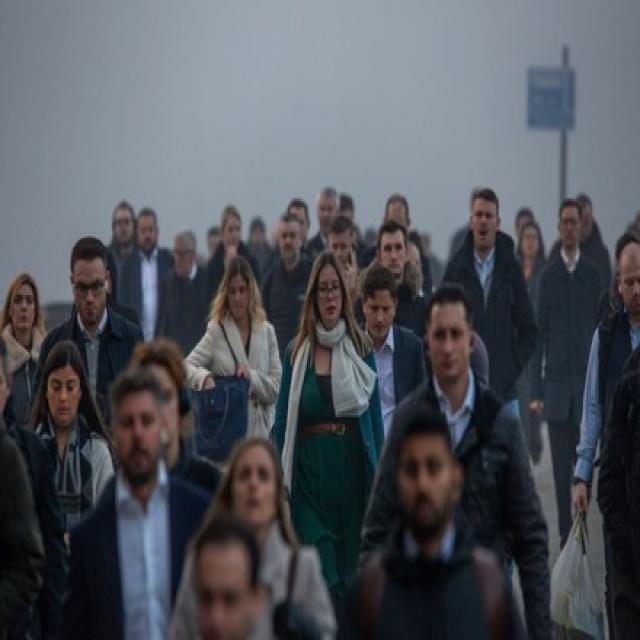Walking: (6, 174, 634, 638), (359, 288, 550, 636), (64, 364, 216, 637), (272, 259, 387, 585), (169, 438, 336, 638), (572, 242, 640, 635), (534, 206, 608, 543), (441, 194, 538, 422), (34, 237, 142, 425), (185, 257, 282, 443), (27, 342, 116, 528), (0, 336, 52, 640), (132, 339, 222, 498), (357, 264, 428, 447), (262, 215, 316, 367), (513, 223, 546, 454), (119, 210, 175, 336), (0, 273, 47, 423), (159, 234, 213, 355), (368, 196, 427, 285), (205, 210, 260, 300), (322, 213, 366, 313), (576, 201, 612, 296), (106, 202, 139, 284), (305, 188, 341, 258), (515, 219, 545, 289), (245, 216, 273, 278), (418, 231, 443, 292), (515, 207, 535, 239)
human: (392, 408, 461, 539), (609, 228, 640, 309)
